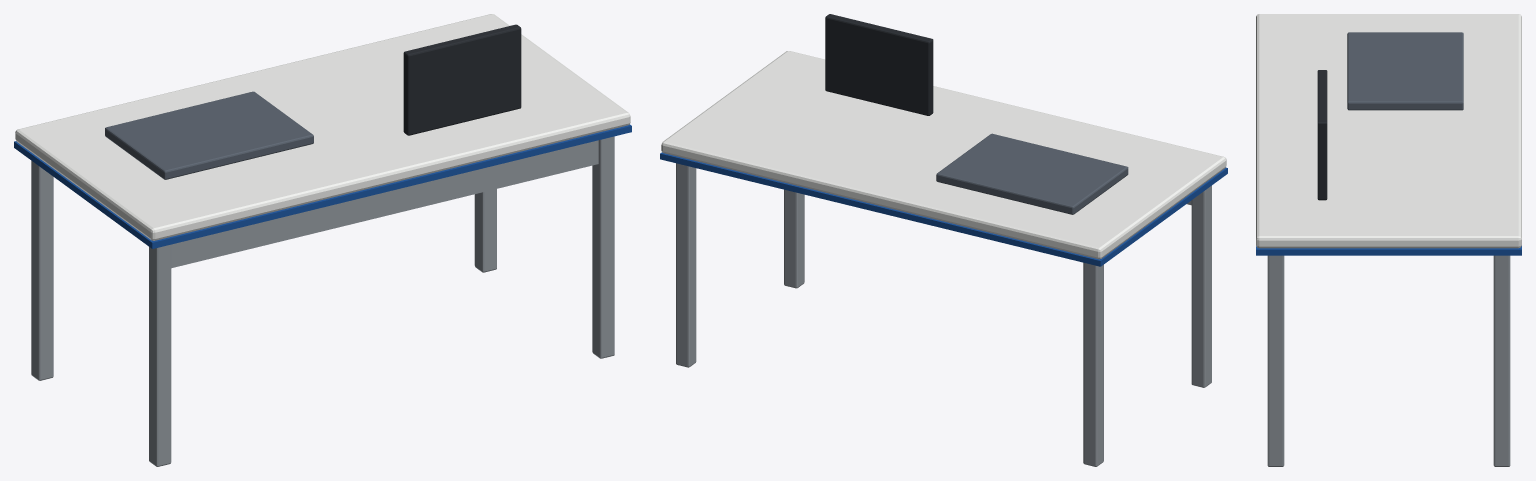
Rendered from table.glb.
3 views of the same model, side by side, from view 1: azimuth 30°, elevation 25°; view 2: azimuth 150°, elevation 25°; view 3: azimuth 270°, elevation 25° (orthographic). The views are drawn at different scales.
Visible parts, largest first — view 1: table; view 2: table; view 3: table.
Boxes of the visible parts, x1=… form: table: x1=14, y1=14, x2=631, y2=466; table: x1=660, y1=14, x2=1227, y2=466; table: x1=1256, y1=14, x2=1521, y2=466.
Size of the model in its own units: 1.6 by 1.04 by 0.8.
